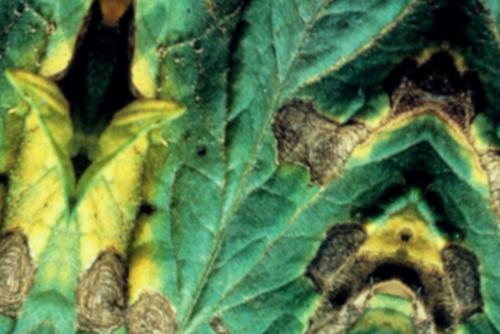Tomato Early blight leaf: (36, 0, 460, 334)
